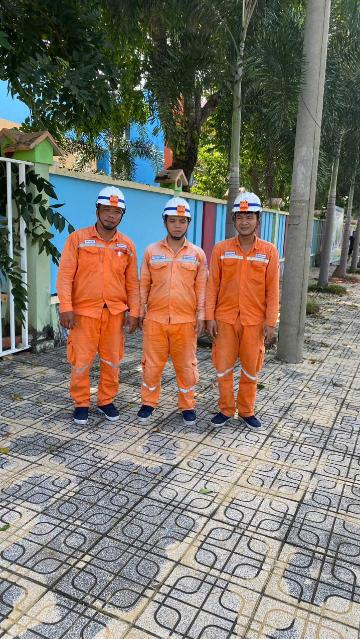helmet: (224, 185, 268, 218), (163, 193, 196, 223), (96, 184, 130, 212)
shoes: (234, 409, 266, 437), (129, 398, 159, 425), (206, 406, 236, 430), (64, 403, 92, 427), (93, 403, 124, 424), (177, 410, 200, 428)
